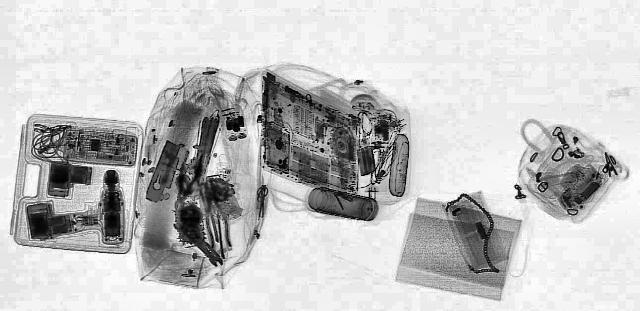Pliers: (194, 184, 232, 246)
Wrench: (187, 236, 226, 266)
